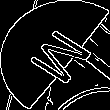M_SE: (16, 22, 94, 88)
